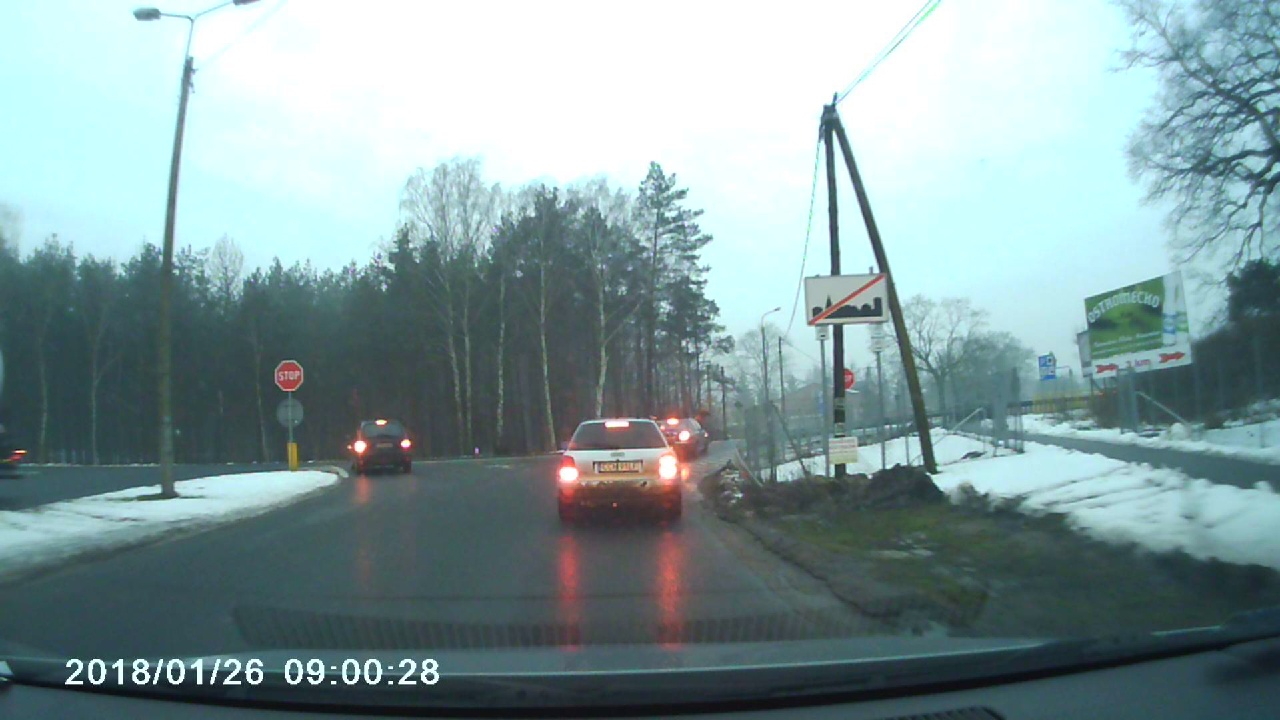B20: (271, 359, 306, 391)
D43: (798, 270, 896, 332)
